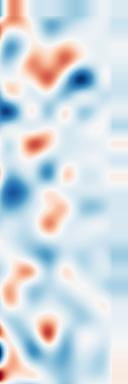filament: (20, 33, 83, 98)
